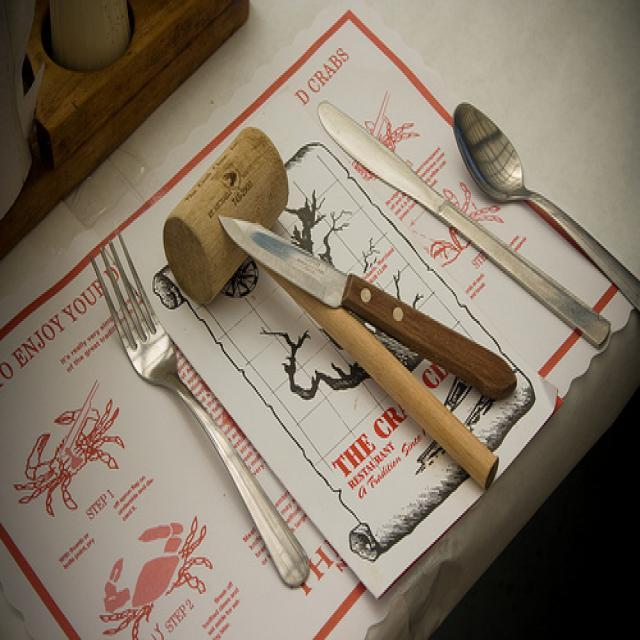hammer: (160, 111, 498, 519)
